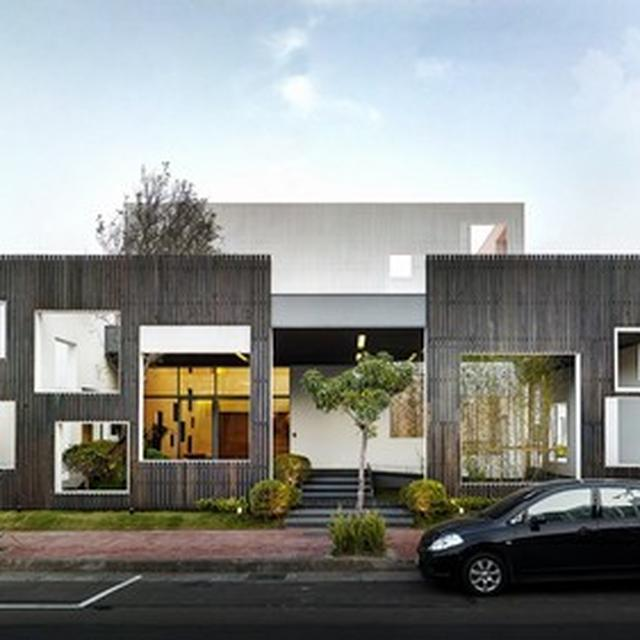building: (0, 199, 640, 522)
